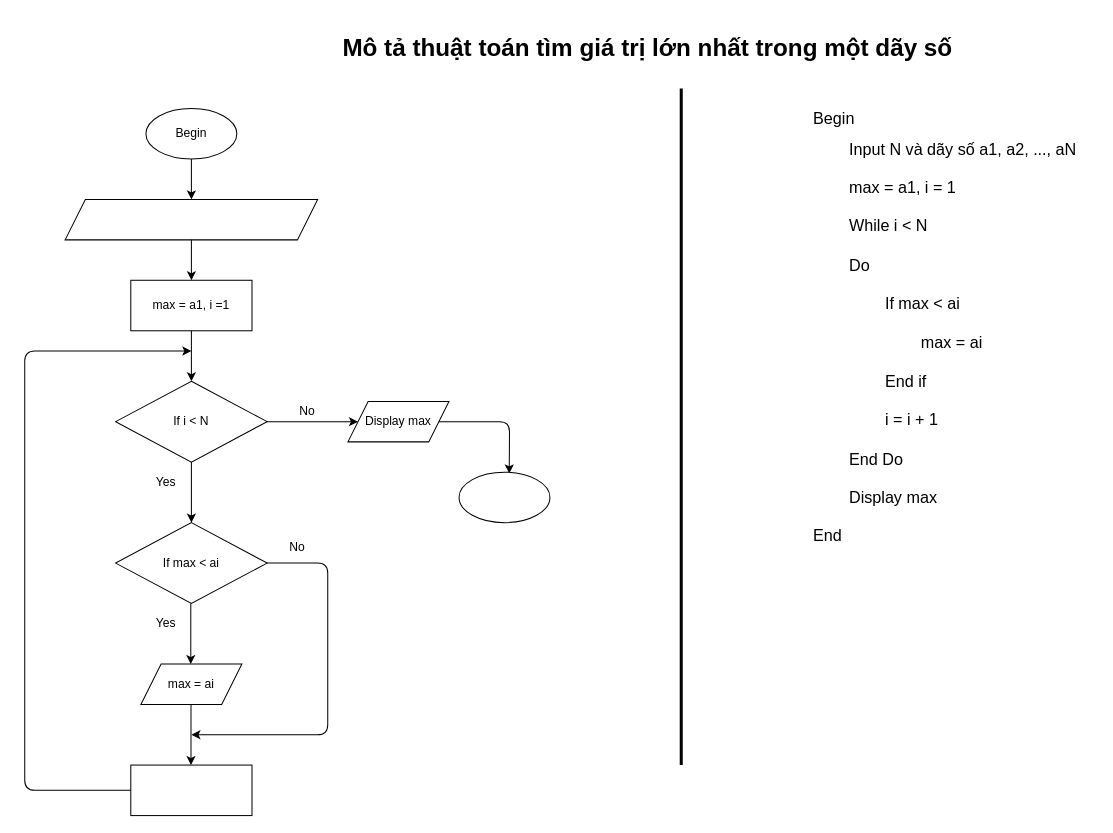
Some shapes in this 1113 by 833 pixel diagram are drawn without their labels. Here are the shapes that lost their labels. From the top down, the box of each, then its label:
(64, 198, 318, 240): Input N và dãy số a1, a2, ..., aN
(458, 471, 550, 523): End
(130, 764, 252, 816): i = i + 1
